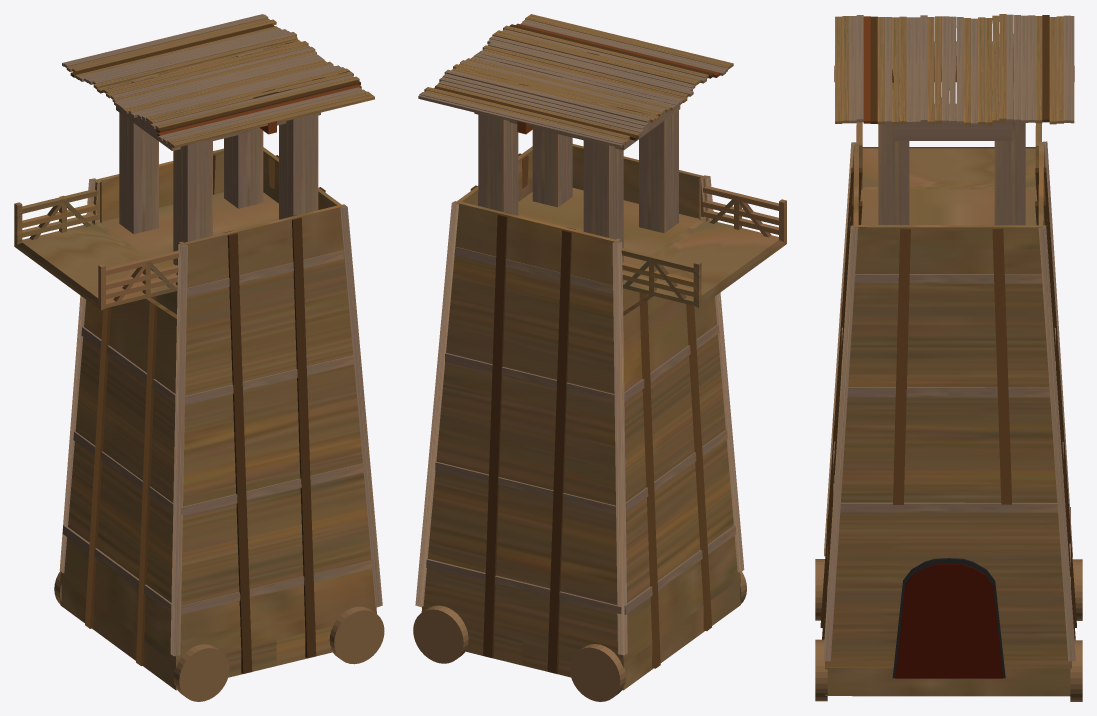
Rendered from siege-tower.zfix-v9.lod0.glb.
The picture shows the model from 3 angles, left to right: view 1: azimuth 30°, elevation 25°; view 2: azimuth 150°, elevation 25°; view 3: azimuth 270°, elevation 25°; orthographic projection. The views are drawn at different scales.
Parts seen in each view (by area): view 1: Object_11, Object_9, Object_2; view 2: Object_11, Object_9, Object_2; view 3: Object_11, Object_9, Object_2.
Part boxes in pixels (x1,y1,x2,y2): Object_11: (14, 18, 384, 701); Object_9: (59, 14, 382, 656); Object_2: (70, 24, 361, 673); Object_11: (413, 14, 786, 701); Object_9: (415, 19, 744, 655); Object_2: (434, 23, 719, 673); Object_11: (815, 14, 1082, 701); Object_9: (823, 14, 1075, 661); Object_2: (820, 15, 1076, 678).
Size of the model in its own units: 7.6 by 15 by 6.13.
3 materials, 2 textured.
